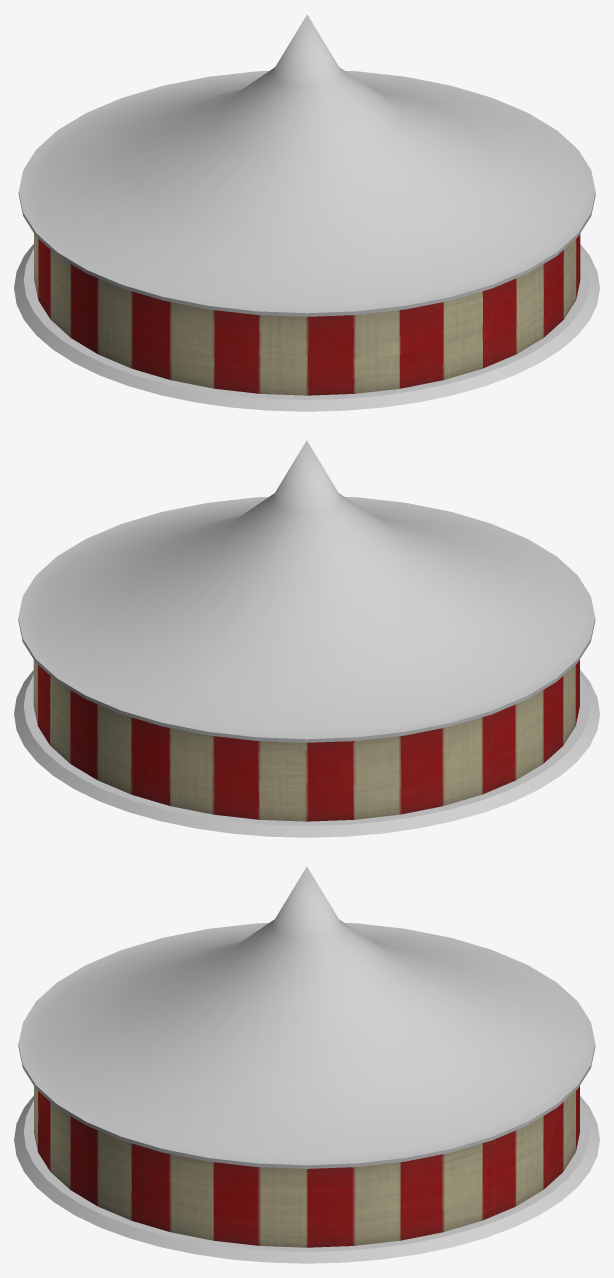
The model's file is LVR_CircusTent.fbx.
The picture shows the model from 3 angles, top to bottom: view 1: azimuth 30°, elevation 25°; view 2: azimuth 150°, elevation 25°; view 3: azimuth 270°, elevation 25°; orthographic projection.
Parts seen in each view (by area): view 1: polySurface4, polySurface3, Base1; view 2: polySurface4, polySurface3, Base1; view 3: polySurface4, polySurface3, Base1.
Boxes of the visible parts, x1,y1,x2,y2 form: polySurface4: [18, 14, 595, 316]; polySurface3: [34, 233, 580, 395]; Base1: [14, 244, 599, 411]; polySurface4: [18, 440, 595, 742]; polySurface3: [33, 660, 579, 821]; Base1: [14, 670, 599, 837]; polySurface4: [18, 866, 595, 1168]; polySurface3: [34, 1086, 579, 1247]; Base1: [14, 1096, 599, 1263].
Size of the model in its own units: 315 by 162 by 315.
